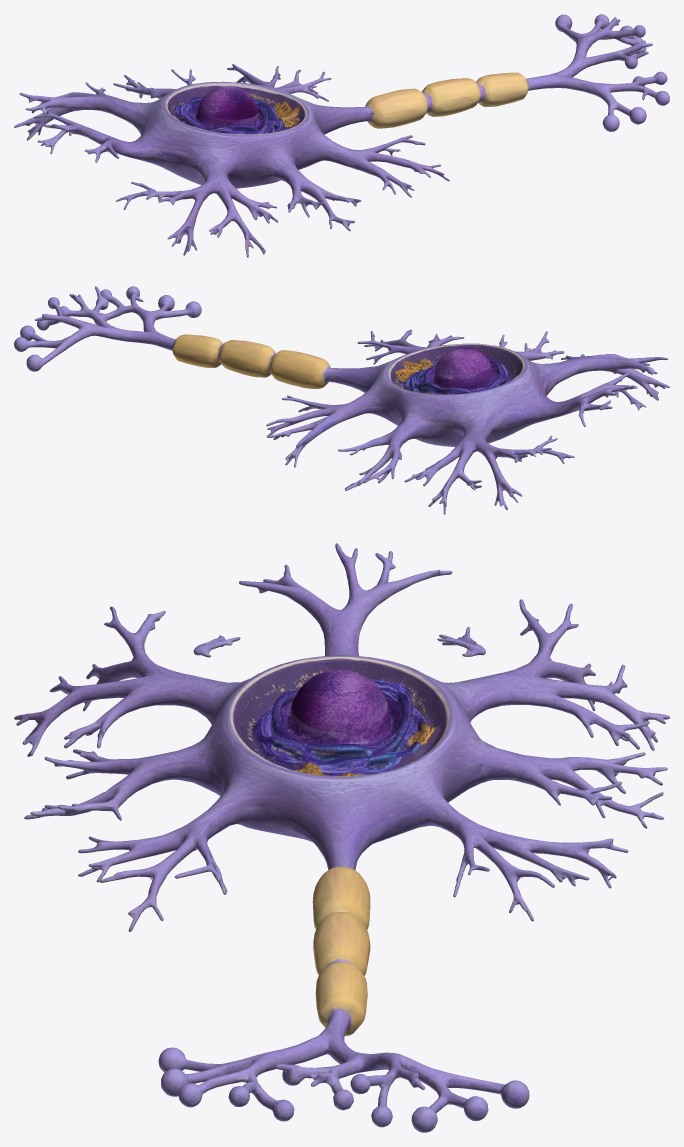
The model's file is neuron-cell-v2.glb.
3 views of the same model, one above another, from view 1: azimuth 30°, elevation 25°; view 2: azimuth 150°, elevation 25°; view 3: azimuth 270°, elevation 25° (orthographic). The views are drawn at different scales.
Visible parts, largest first — view 1: Mesh_0; view 2: Mesh_0; view 3: Mesh_0.
Part boxes in pixels (x1,y1,x2,y2): Mesh_0: [14, 14, 669, 257]; Mesh_0: [14, 286, 669, 514]; Mesh_0: [14, 543, 669, 1132].
Bounding box in the file's own units: 1.91 × 0.2782 × 1.11.
1 material, 1 textured.
